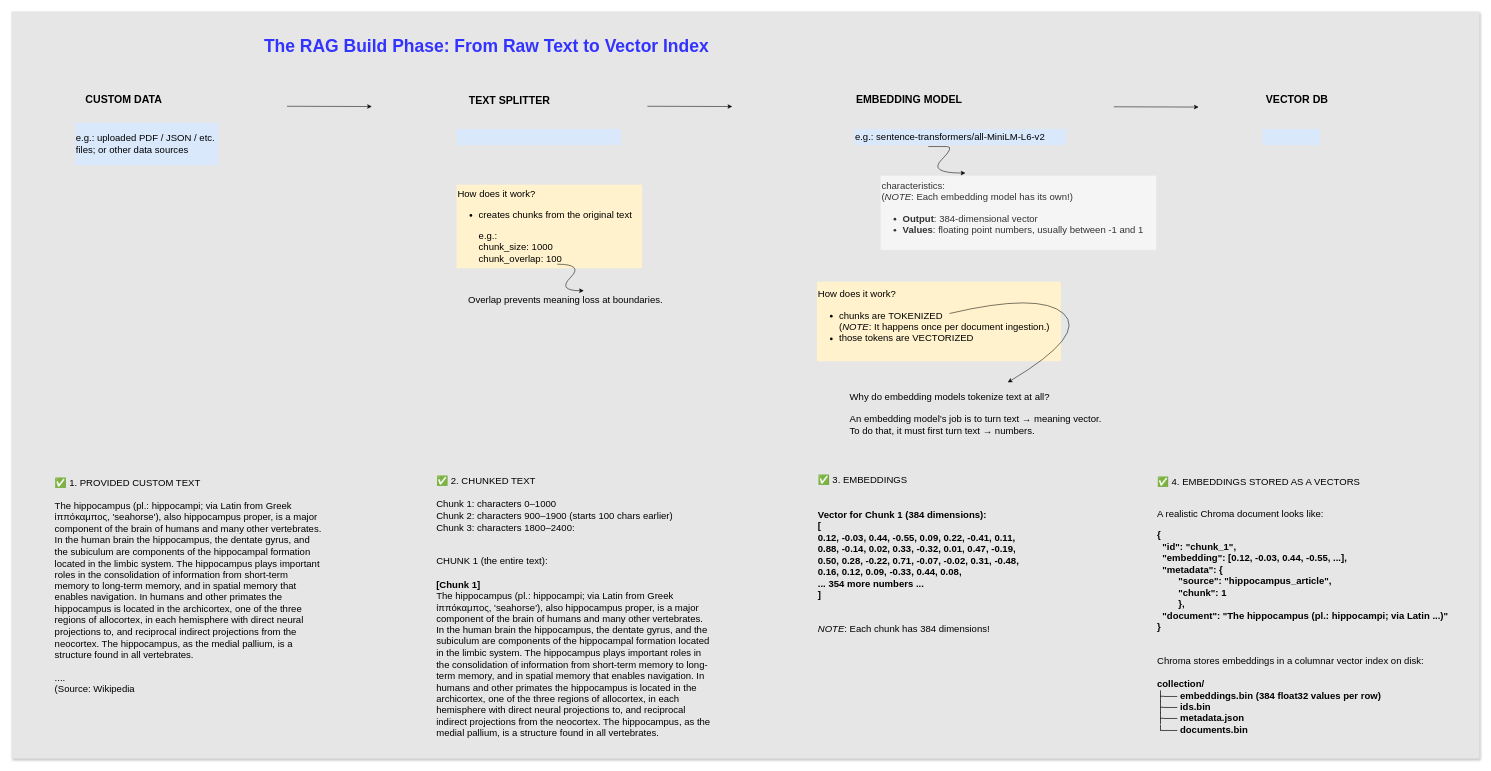
Image size: 1491x771. Some labels were removed from this diagram. Each missing label, with the centre of its shape:
"e.g.: Chroma" belongs at point 1291,137.
"e.g.: RecursiveCharacterTextSplitter" belongs at point 538,137.
